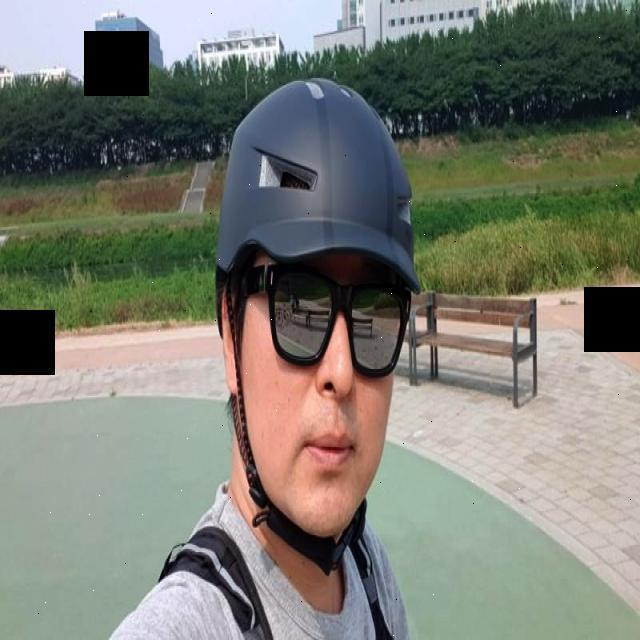helmet: (214, 74, 426, 578)
